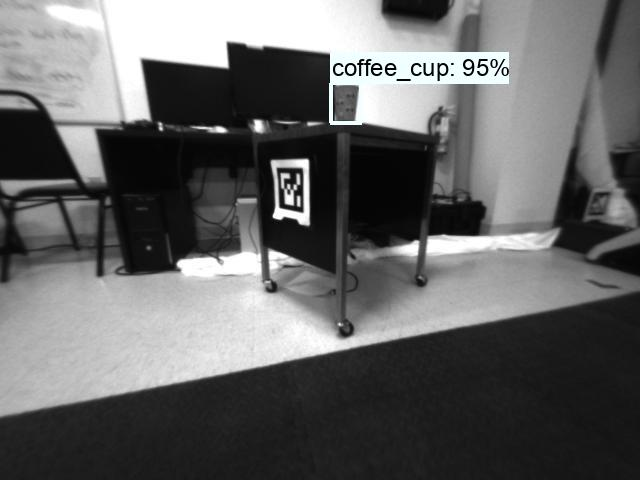coffee_cup: (331, 84, 360, 123)
